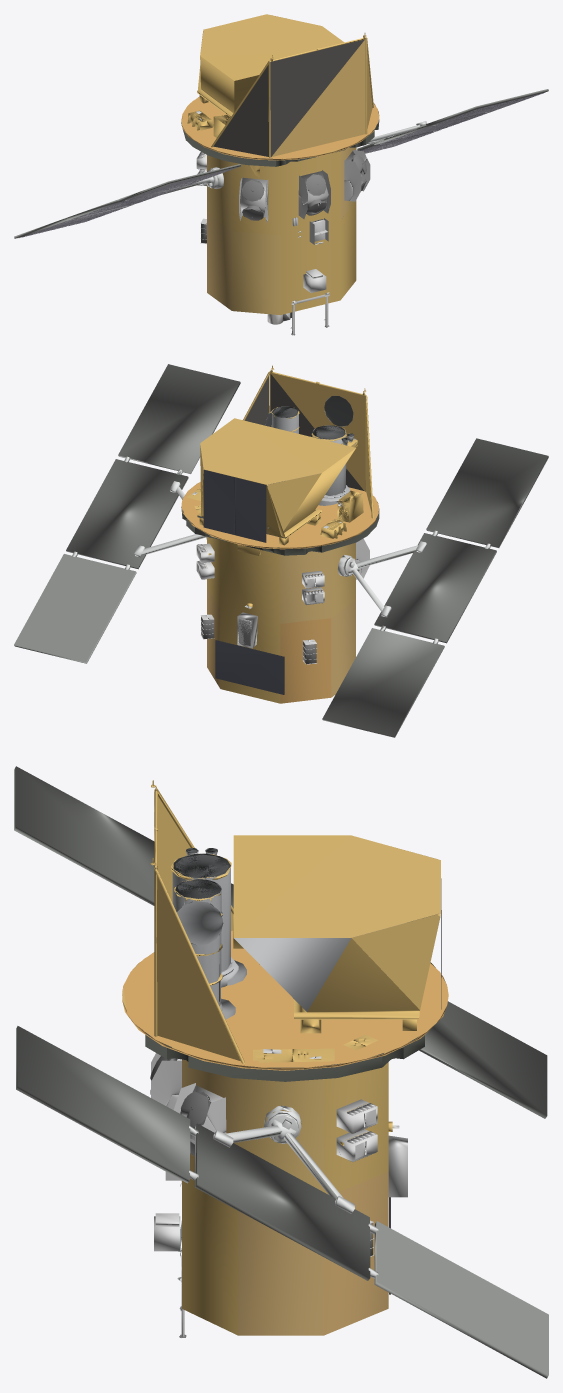
The model's file is swift.glb.
3 views of the same model, one above another, from view 1: azimuth 30°, elevation 25°; view 2: azimuth 150°, elevation 25°; view 3: azimuth 270°, elevation 25° (orthographic). The views are drawn at different scales.
Visible parts, largest first — view 1: Fake; view 2: Fake; view 3: Fake.
Part boxes in pixels (bbox=[...]): Fake: bbox=[14, 14, 548, 335]; Fake: bbox=[14, 364, 548, 737]; Fake: bbox=[14, 766, 548, 1378].
Bounding box in the file's own units: 39.92 × 29.44 × 28.25.
Materials: 1 (1 with a texture image).
